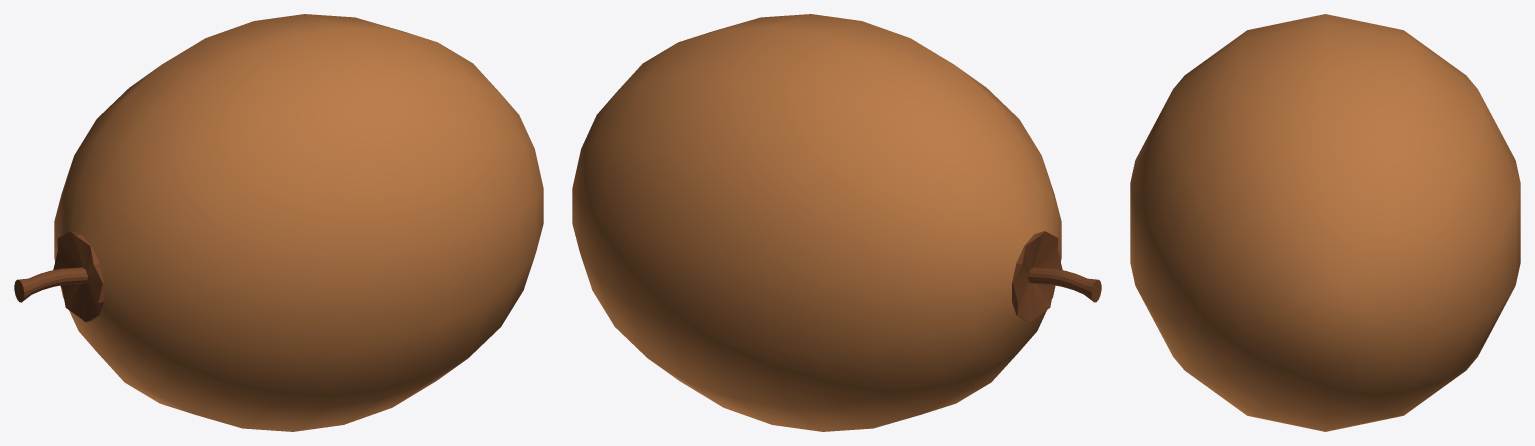
Rendered from Sapodilla.fbx.
3 renders of one model, left to right at view 1: azimuth 30°, elevation 25°; view 2: azimuth 150°, elevation 25°; view 3: azimuth 270°, elevation 25°, orthographic. The views are drawn at different scales.
Visible parts, largest first — view 1: Sapodilla; view 2: Sapodilla; view 3: Sapodilla.
Part boxes in pixels (box(x1,y1,x2,y2)): Sapodilla: box(14, 14, 543, 431); Sapodilla: box(572, 14, 1101, 431); Sapodilla: box(1130, 14, 1520, 431).
Size of the model in its own units: 0.7141 by 0.5097 by 0.4969.
1 material, 1 textured.
